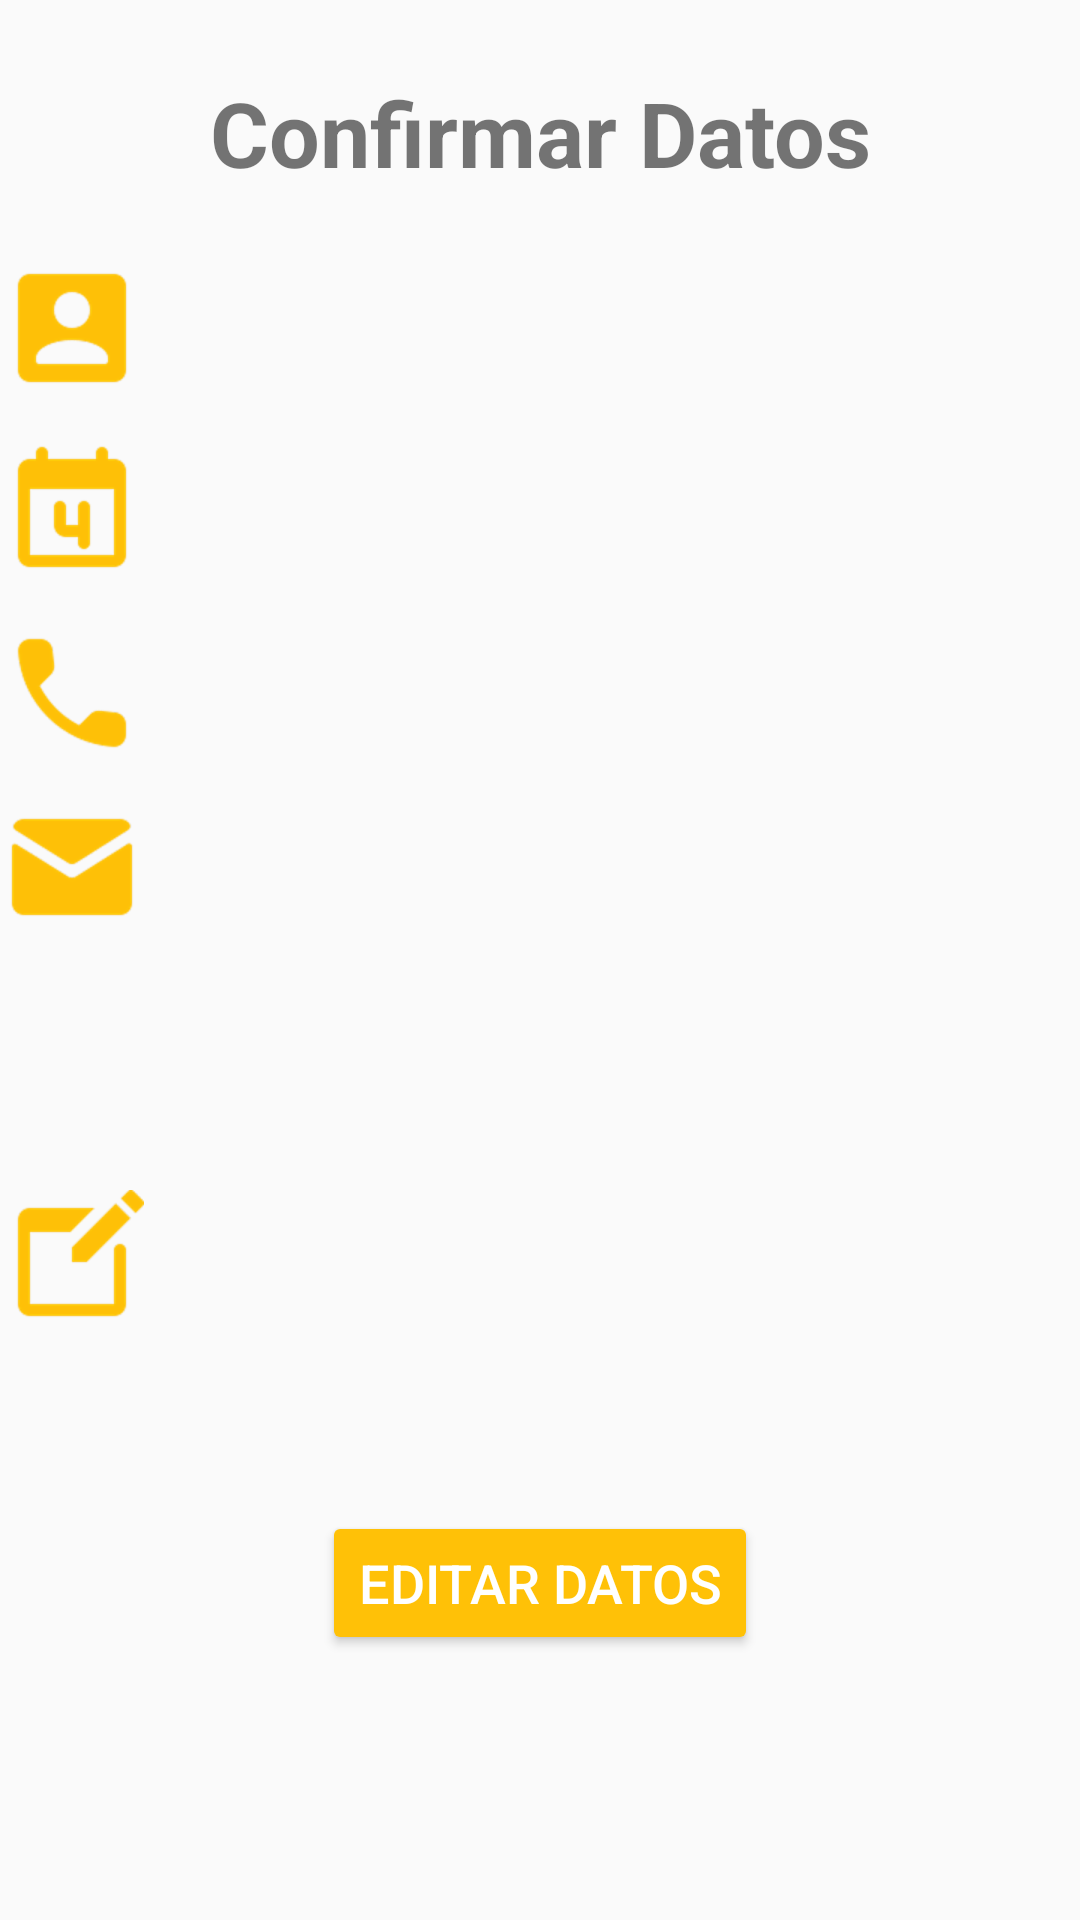

Where to tap for icons on this 1080px x 1920px app screen, as [x,y]:
correo: [72,867]
descripcion: [80,1253]
fecha: [72,507]
nombre: [72,328]
telefono: [72,693]
